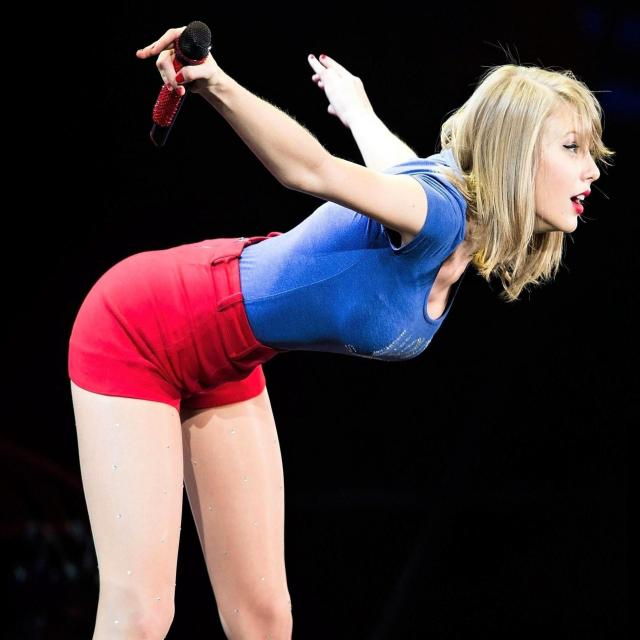stand: (55, 21, 576, 640)
